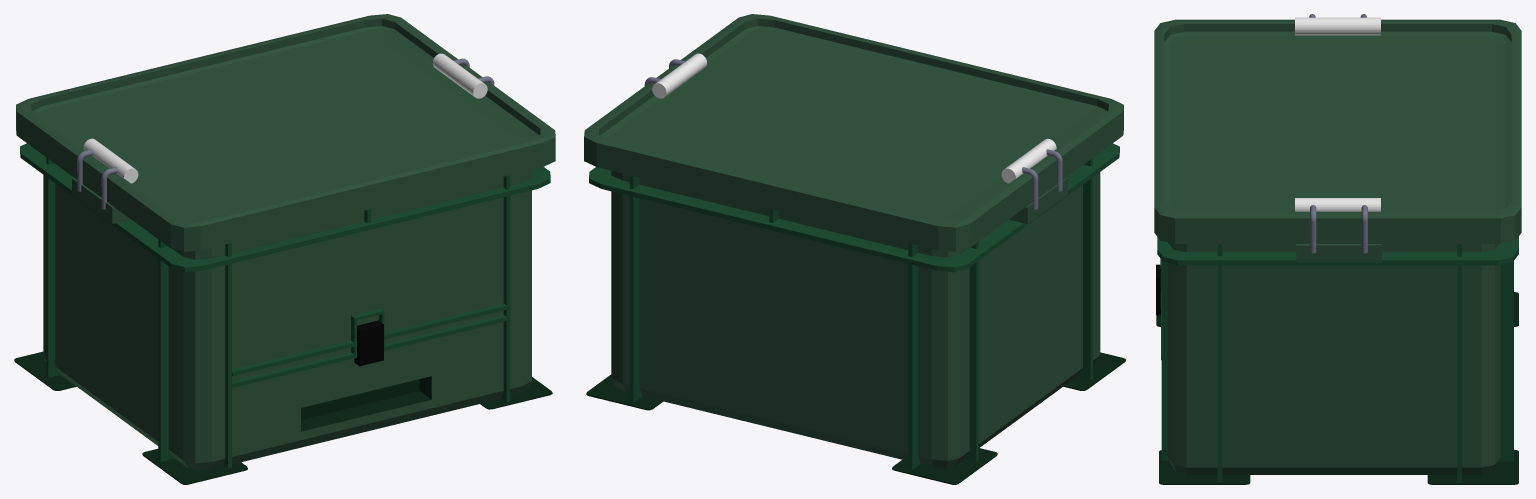
The model's file is ToolBox.fbx.
The picture shows the model from 3 angles, left to right: view 1: azimuth 30°, elevation 25°; view 2: azimuth 150°, elevation 25°; view 3: azimuth 270°, elevation 25°; orthographic projection. The views are drawn at different scales.
Visible parts, largest first — view 1: 立方体, 立方体.001, 立方体.002, 立方体.019, 立方体.018, 立方体.012, 立方体.011, 立方体.003, 立方体.005, 立方体.023, 立方体.010, 円柱.004 (+4 smaller); view 2: 立方体, 立方体.001, 立方体.002, 立方体.006, 立方体.008, 立方体.019, 立方体.018, 立方体.022, 円柱.004, 立方体.021, 円柱.005, 立方体.024 (+1 smaller); view 3: 立方体.001, 立方体, 立方体.002, 立方体.006, 円柱.005, 立方体.009, 立方体.003, 立方体.016, 立方体.021, 立方体.017, 立方体.020, 円柱.004.
Boxes of the visible parts, x1,y1,x2,y2 form: 立方体: (43, 170, 531, 469); 立方体.001: (16, 14, 555, 251); 立方体.002: (20, 143, 550, 272); 立方体.019: (158, 239, 174, 461); 立方体.018: (46, 157, 60, 377); 立方体.012: (232, 303, 506, 376); 立方体.011: (232, 315, 506, 387); 立方体.003: (501, 175, 510, 402); 立方体.005: (223, 243, 231, 468); 立方体.023: (142, 448, 247, 484); 立方体.010: (354, 320, 383, 366); 円柱.004: (432, 53, 487, 98); 立方体: (611, 170, 1100, 467); 立方体.001: (584, 14, 1123, 251); 立方体.002: (589, 143, 1119, 272); 立方体.006: (629, 175, 642, 403); 立方体.008: (908, 243, 920, 469); 立方体.019: (1077, 158, 1092, 380); 立方体.018: (964, 242, 978, 461); 立方体.022: (892, 448, 997, 484); 円柱.004: (652, 53, 706, 98); 立方体.021: (586, 374, 663, 410); 円柱.005: (1001, 138, 1056, 183); 立方体.024: (1009, 178, 1067, 223); 立方体.001: (1154, 19, 1521, 243); 立方体: (1167, 242, 1500, 474); 立方体.002: (1157, 236, 1518, 265); 立方体.006: (1498, 261, 1513, 461); 円柱.005: (1295, 17, 1380, 35); 立方体.009: (1296, 244, 1381, 262); 立方体.003: (1161, 260, 1169, 460); 立方体.016: (1217, 244, 1222, 482); 立方体.021: (1427, 449, 1518, 484); 立方体.017: (1457, 244, 1461, 482); 立方体.020: (1159, 450, 1250, 484); 円柱.004: (1295, 198, 1380, 211).
Bounding box in the file's own units: 209 × 137 × 160.
